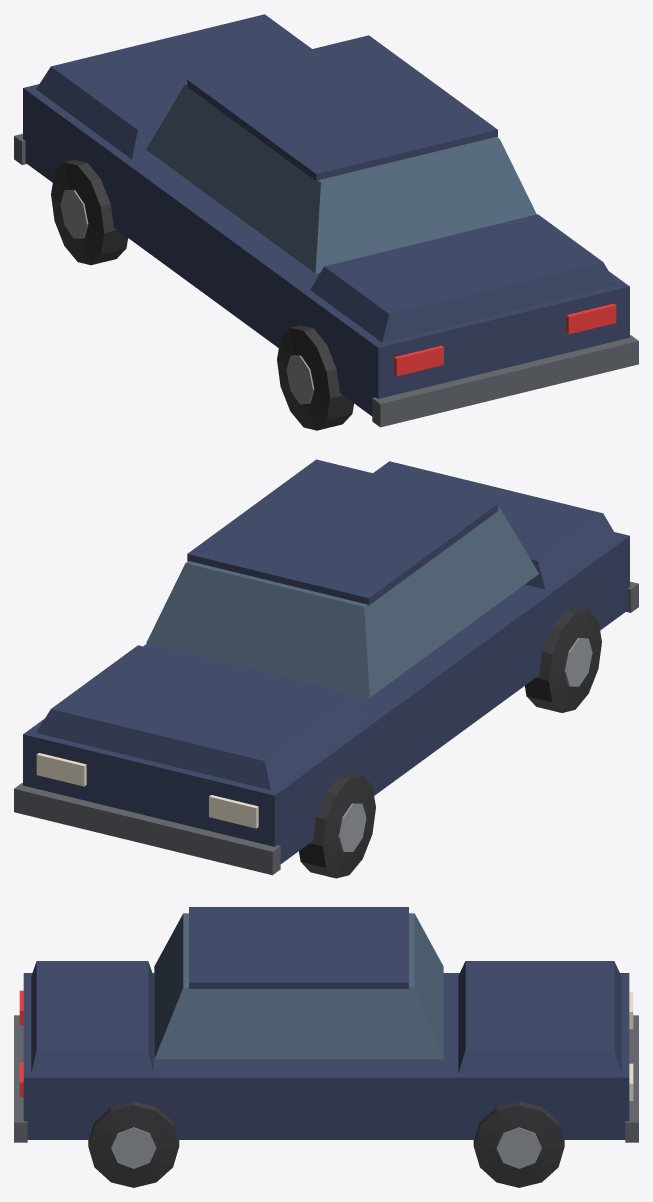
Rendered from Car_navy.obj.
3 renders of one model, top to bottom at view 1: azimuth 30°, elevation 25°; view 2: azimuth 150°, elevation 25°; view 3: azimuth 270°, elevation 25°, orthographic. The views are drawn at different scales.
Parts seen in each view (by area): view 1: Car_navy; view 2: Car_navy; view 3: Car_navy.
Part boxes in pixels (<box>): Car_navy: <box>14,14,638,430</box>; Car_navy: <box>14,459,638,878</box>; Car_navy: <box>14,907,638,1187</box>.
Size of the model in its own units: 2 by 1.5 by 4.54.
1 material, 1 textured.
